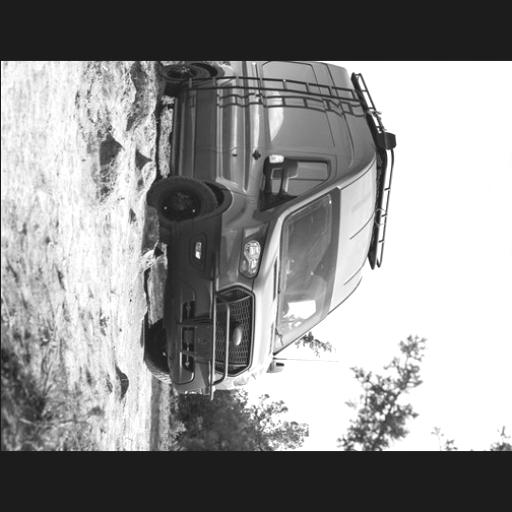van: (145, 62, 396, 397)
